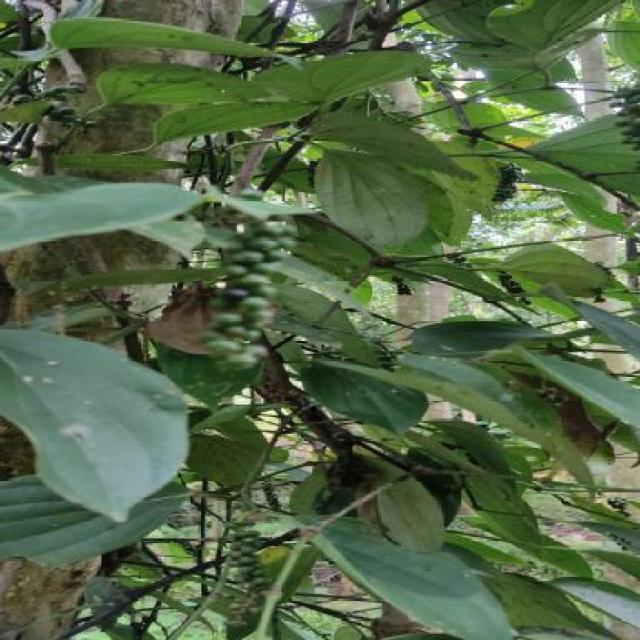UNRIPE: (211, 192, 297, 370), (224, 521, 270, 625), (11, 84, 98, 125), (614, 86, 638, 151), (488, 164, 523, 201), (495, 270, 531, 304), (529, 386, 569, 406), (603, 494, 634, 515)
